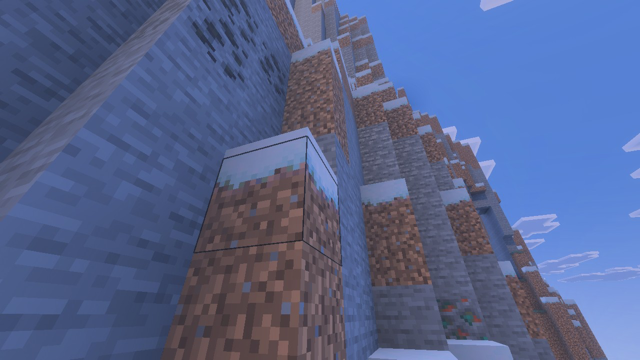coal: (182, 1, 291, 101)
copper: (432, 293, 492, 344)
